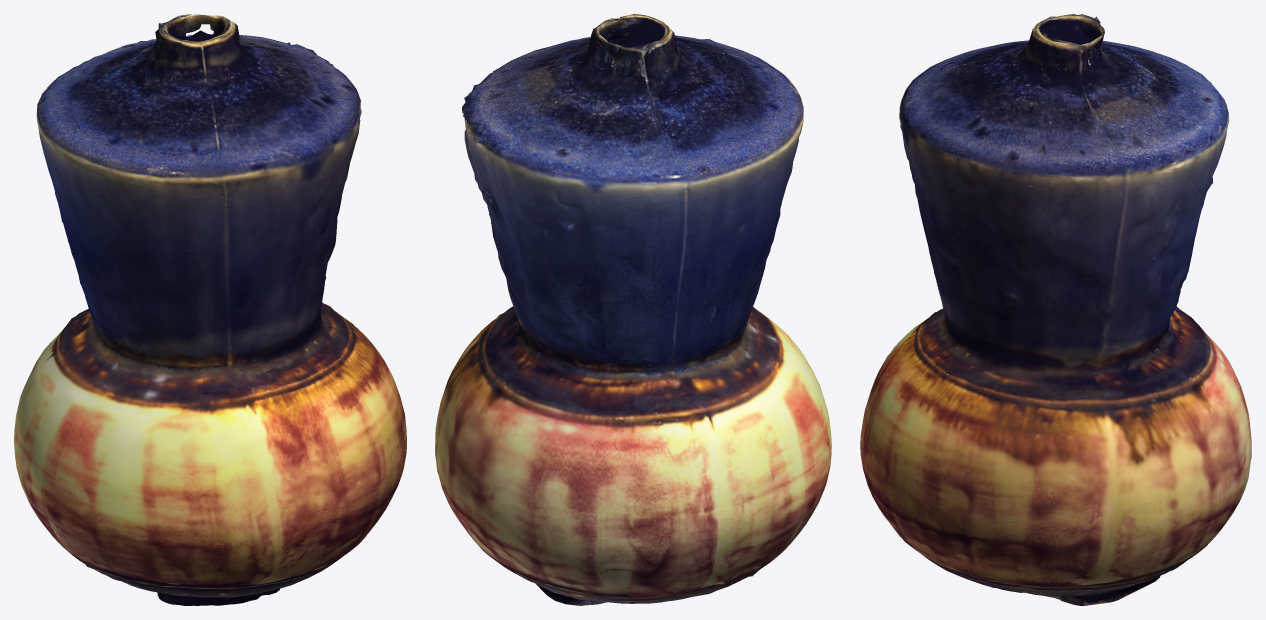
Rendered from glazed.glb.
3 renders of one model, left to right at view 1: azimuth 30°, elevation 25°; view 2: azimuth 150°, elevation 25°; view 3: azimuth 270°, elevation 25°, orthographic. The views are drawn at different scales.
Visible parts, largest first — view 1: Glazed Pot; view 2: Glazed Pot; view 3: Glazed Pot.
Part boxes in pixels (left/top/right/bottom): Glazed Pot: left=14, top=14, right=406, bottom=605; Glazed Pot: left=435, top=14, right=831, bottom=605; Glazed Pot: left=860, top=14, right=1251, bottom=605.
Bounding box in the file's own units: 0.8407 × 1.28 × 0.8475.
Materials: 1 (1 with a texture image).
